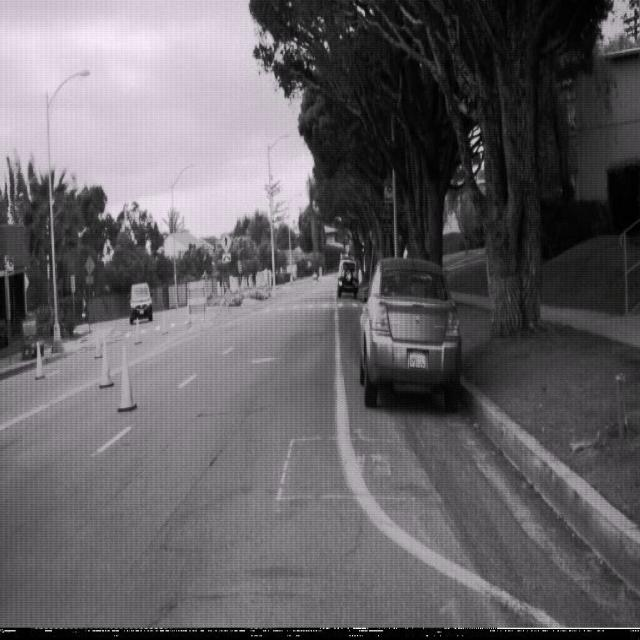pedestrianCrossing: (220, 229, 232, 254)
